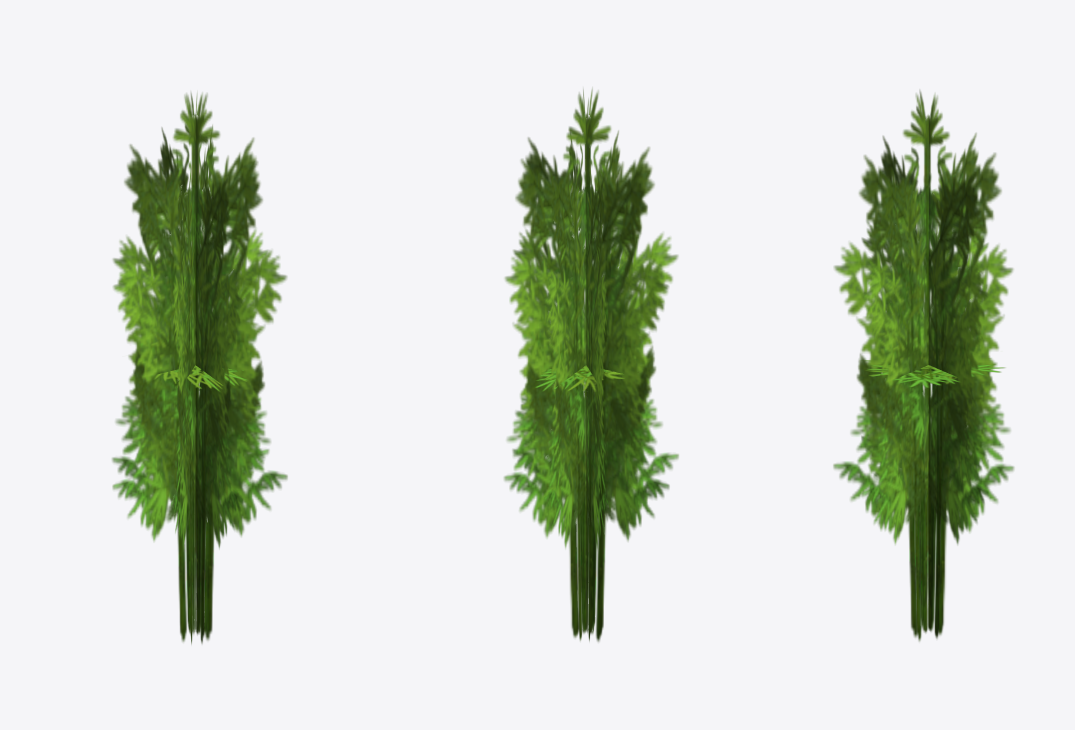
The picture shows the model from 3 angles, left to right: view 1: azimuth 30°, elevation 25°; view 2: azimuth 150°, elevation 25°; view 3: azimuth 270°, elevation 25°; orthographic projection.
Visible parts, largest first — view 1: planeobj; view 2: planeobj; view 3: planeobj.
Part boxes in pixels (x1,y1,x2,y2): planeobj: (112,93,287,644); planeobj: (504,88,678,641); planeobj: (833,90,1013,641).
Bounding box in the file's own units: 18.01 × 44.46 × 18.02.
Materials: 1 (1 with a texture image).
